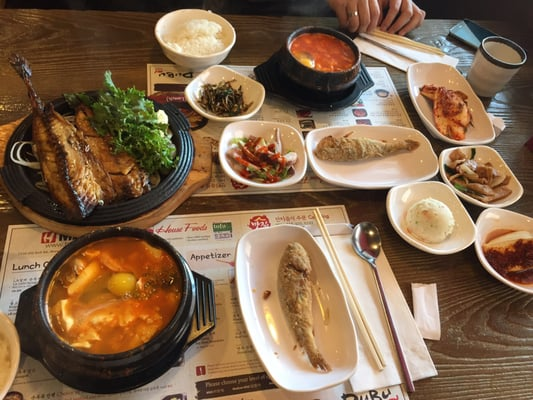pizza: (467, 35, 528, 100)
salad: (351, 221, 438, 392)
sandwich: (351, 221, 438, 396)
sushi: (21, 225, 200, 391), (234, 221, 363, 393), (385, 180, 477, 256), (219, 121, 309, 191), (279, 26, 362, 98), (155, 8, 237, 71), (474, 207, 533, 294), (439, 146, 523, 207), (184, 65, 266, 123), (0, 310, 21, 400)
